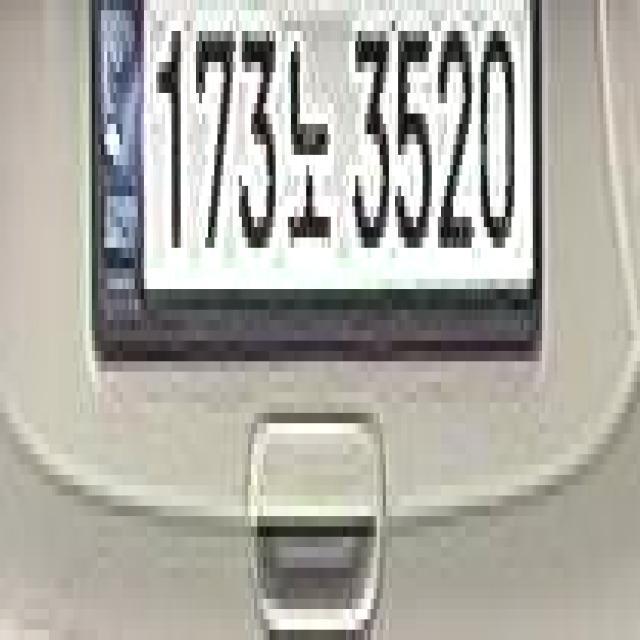illegal_plate: (79, 6, 548, 367)
